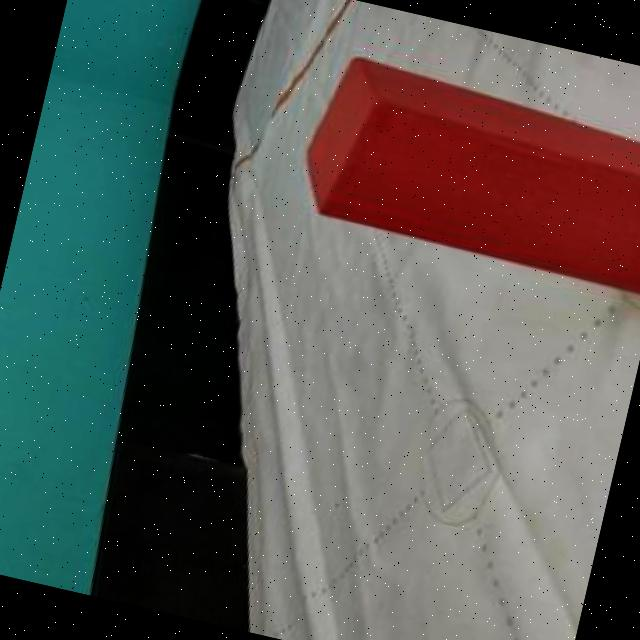redbox: (289, 49, 640, 292)
